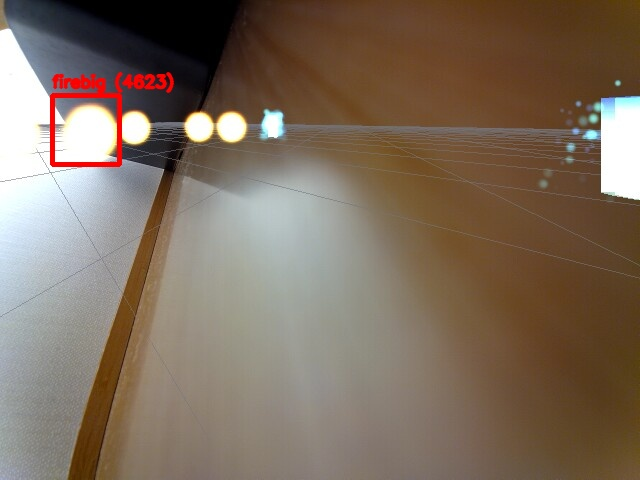firebig: (52, 95, 119, 164)
